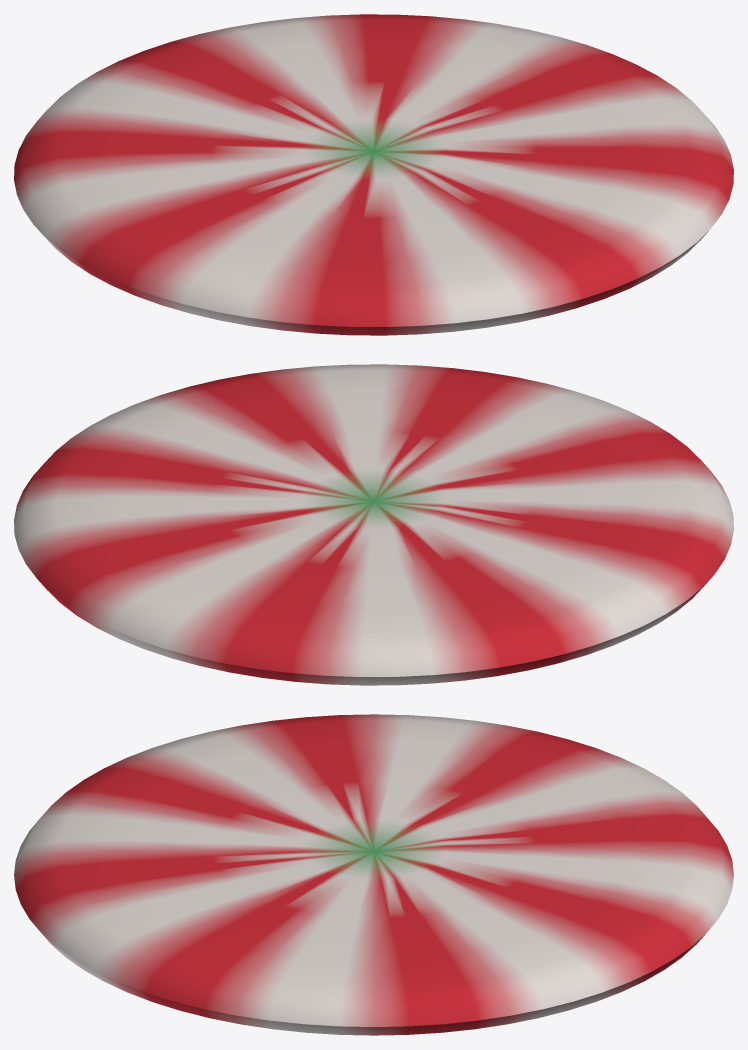
File: peppermint.glb
3 renders of one model, top to bottom at view 1: azimuth 30°, elevation 25°; view 2: azimuth 150°, elevation 25°; view 3: azimuth 270°, elevation 25°, orthographic.
Visible parts, largest first — view 1: body; view 2: body; view 3: body.
Boxes of the visible parts, left/top/right/bottom form: body: left=14, top=14, right=733, bottom=335; body: left=14, top=364, right=733, bottom=685; body: left=14, top=714, right=733, bottom=1035.
Bounding box in the file's own units: 0.92 × 0.07 × 0.92.
